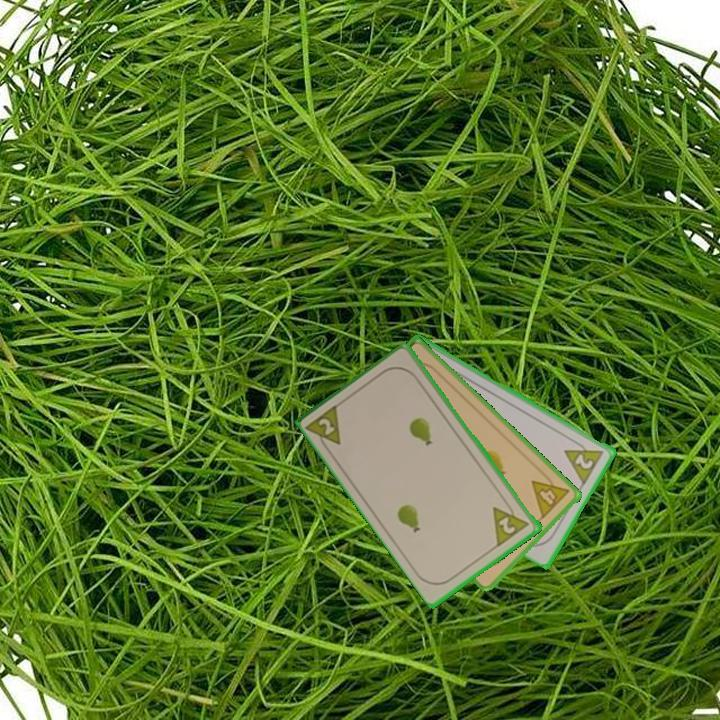2p: (561, 435, 607, 487), (489, 496, 532, 549), (304, 400, 344, 456)
4p: (528, 468, 572, 522)
